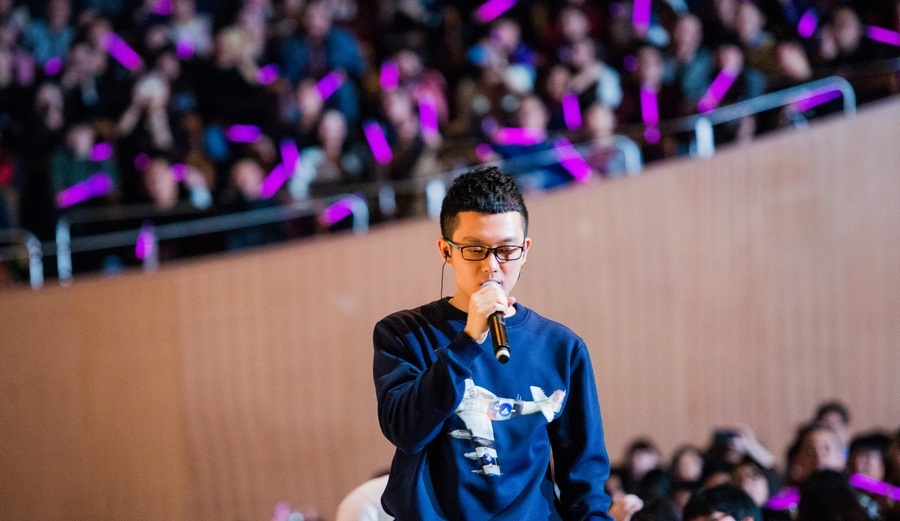face: (451, 221, 525, 308)
